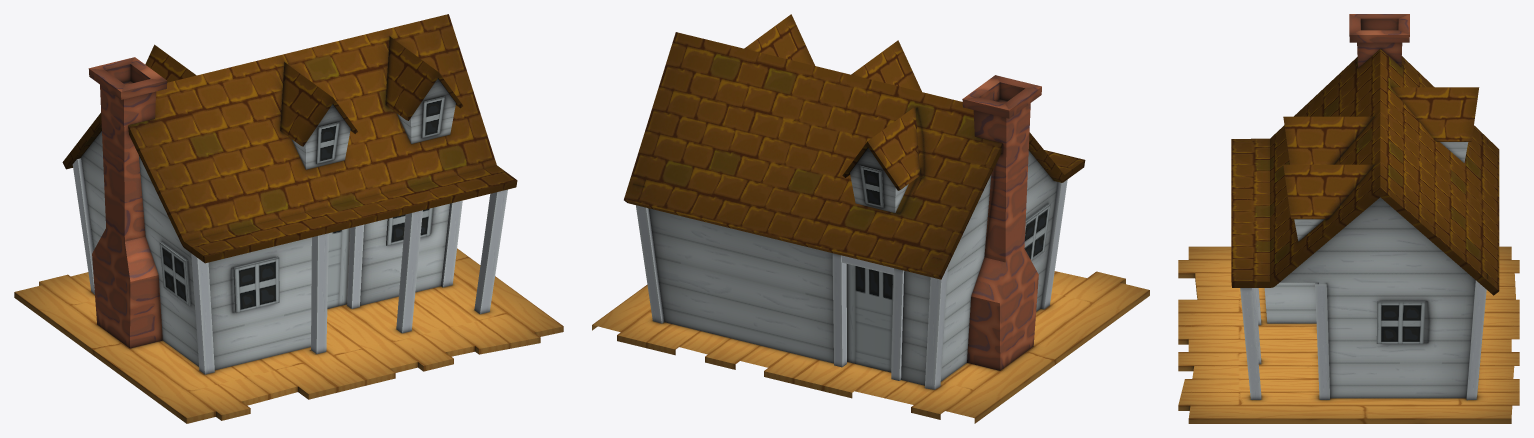
File: home.FBX
3 views of the same model, side by side, from view 1: azimuth 30°, elevation 25°; view 2: azimuth 150°, elevation 25°; view 3: azimuth 270°, elevation 25° (orthographic). The views are drawn at different scales.
Parts seen in each view (by area): view 1: house01; view 2: house01; view 3: house01.
Boxes of the visible parts, left/top/right/bottom form: house01: left=14, top=14, right=563, bottom=423; house01: left=592, top=14, right=1149, bottom=423; house01: left=1178, top=14, right=1519, bottom=423.
Size of the model in its own units: 52.68 by 44.18 by 35.83.
